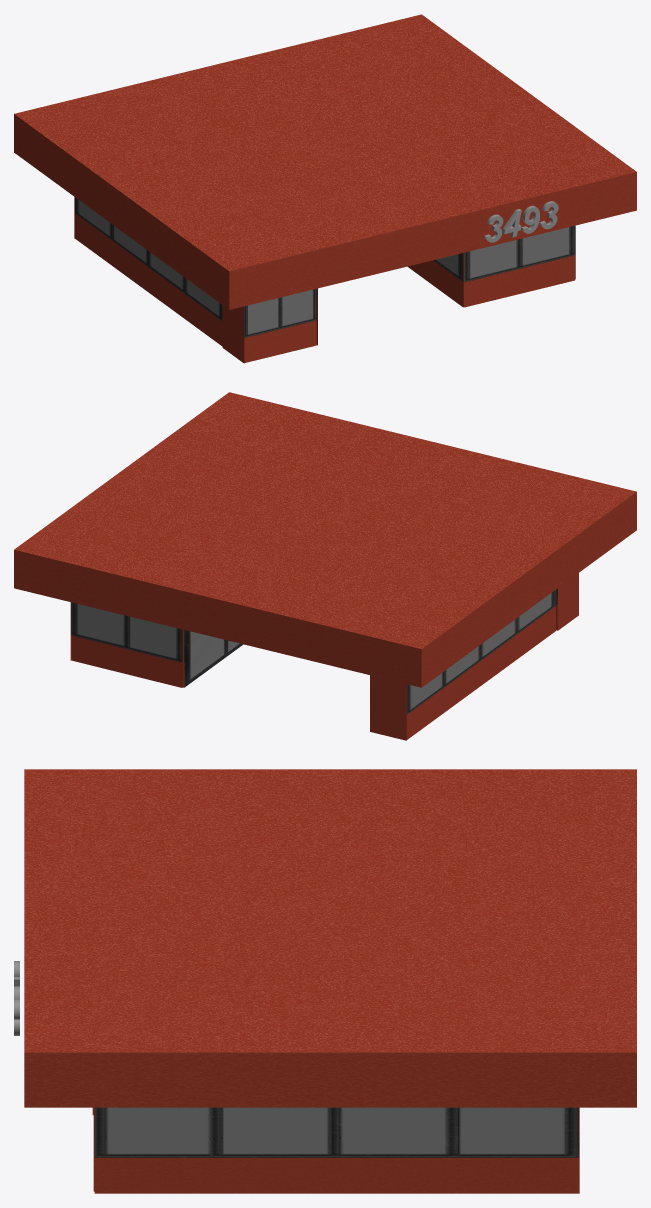
File: Entrada.obj
3 views of the same model, one above another, from view 1: azimuth 30°, elevation 25°; view 2: azimuth 150°, elevation 25°; view 3: azimuth 270°, elevation 25° (orthographic). The views are drawn at different scales.
Parts seen in each view (by area): view 1: Box004, Box003, Plane004, Box002, Plane007, TextPlus001, Plane001; view 2: Box004, Plane006, Box003, Plane008, Plane007, Plane001; view 3: Box004, Plane005.
Part boxes in pixels (left/top/right/bottom): Box004: left=14, top=14, right=636, bottom=309; Box003: left=74, top=197, right=222, bottom=346; Plane004: left=464, top=225, right=574, bottom=307; Box002: left=244, top=289, right=316, bottom=362; Plane007: left=407, top=253, right=463, bottom=307; TextPlus001: left=484, top=201, right=558, bottom=242; Plane001: left=222, top=309, right=243, bottom=362; Box004: left=14, top=392, right=636, bottom=687; Plane006: left=71, top=602, right=182, bottom=687; Box003: left=406, top=590, right=555, bottom=739; Plane008: left=370, top=675, right=406, bottom=740; Plane007: left=184, top=630, right=243, bottom=687; Plane001: left=558, top=577, right=578, bottom=630; Box004: left=24, top=769, right=636, bottom=1107; Plane005: left=94, top=1107, right=579, bottom=1193.
Bounding box in the file's own units: 110 × 30.41 × 103.
